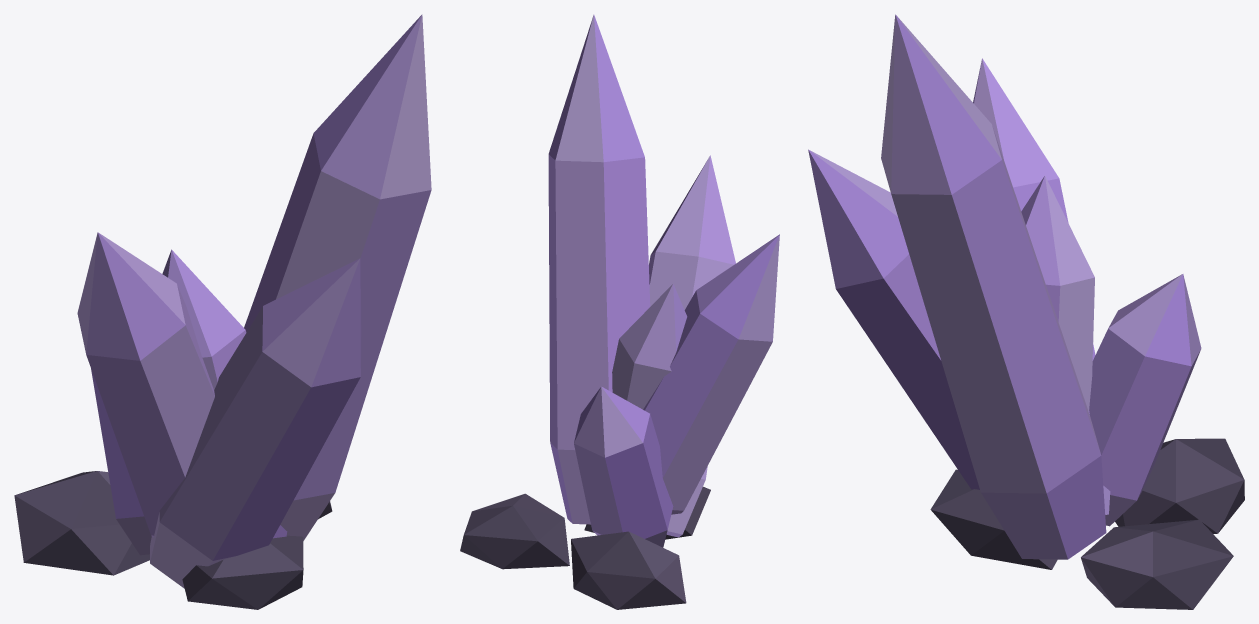
File: Crystal_Violet_B.fbx
3 renders of one model, left to right at view 1: azimuth 30°, elevation 25°; view 2: azimuth 150°, elevation 25°; view 3: azimuth 270°, elevation 25°, orthographic. The views are drawn at different scales.
Parts seen in each view (by area): view 1: Crystal_Violet_B; view 2: Crystal_Violet_B; view 3: Crystal_Violet_B.
Boxes of the visible parts, box(x1,y1,x2,y2) form: Crystal_Violet_B: box(14, 14, 431, 609); Crystal_Violet_B: box(460, 14, 779, 609); Crystal_Violet_B: box(808, 14, 1244, 609).
Bounding box in the file's own units: 1.01 × 1.82 × 1.22.
